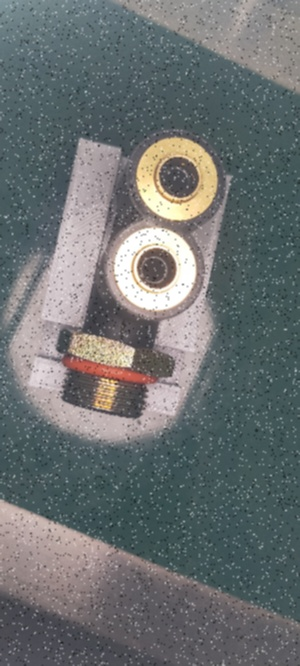craze: (116, 317, 131, 345)
